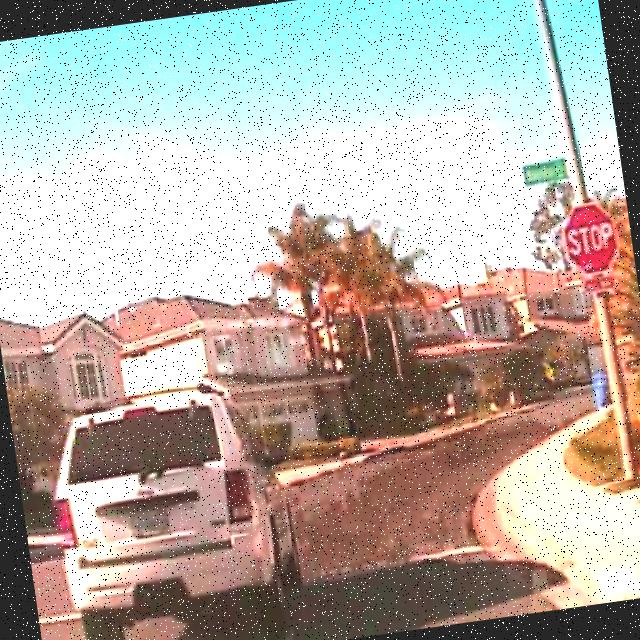Stop: (558, 198, 624, 278)
